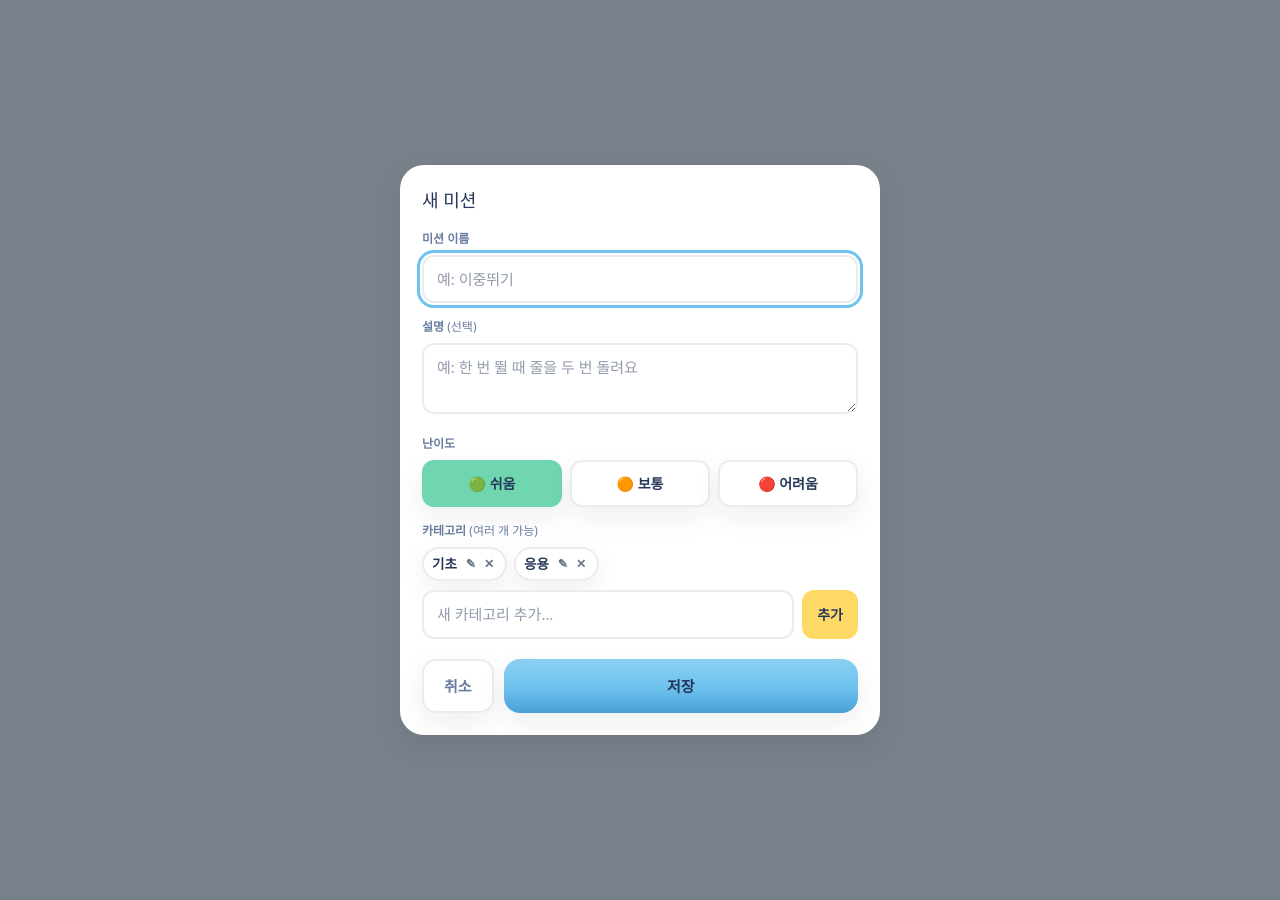
Test: MissionModal (add/edit, RHF + zodResolver) › blocks an empty-name submit, shows the error toast, and does not touch the store
Step 1. Click the button "저장" → click(681, 686), box [504,659,858,713]
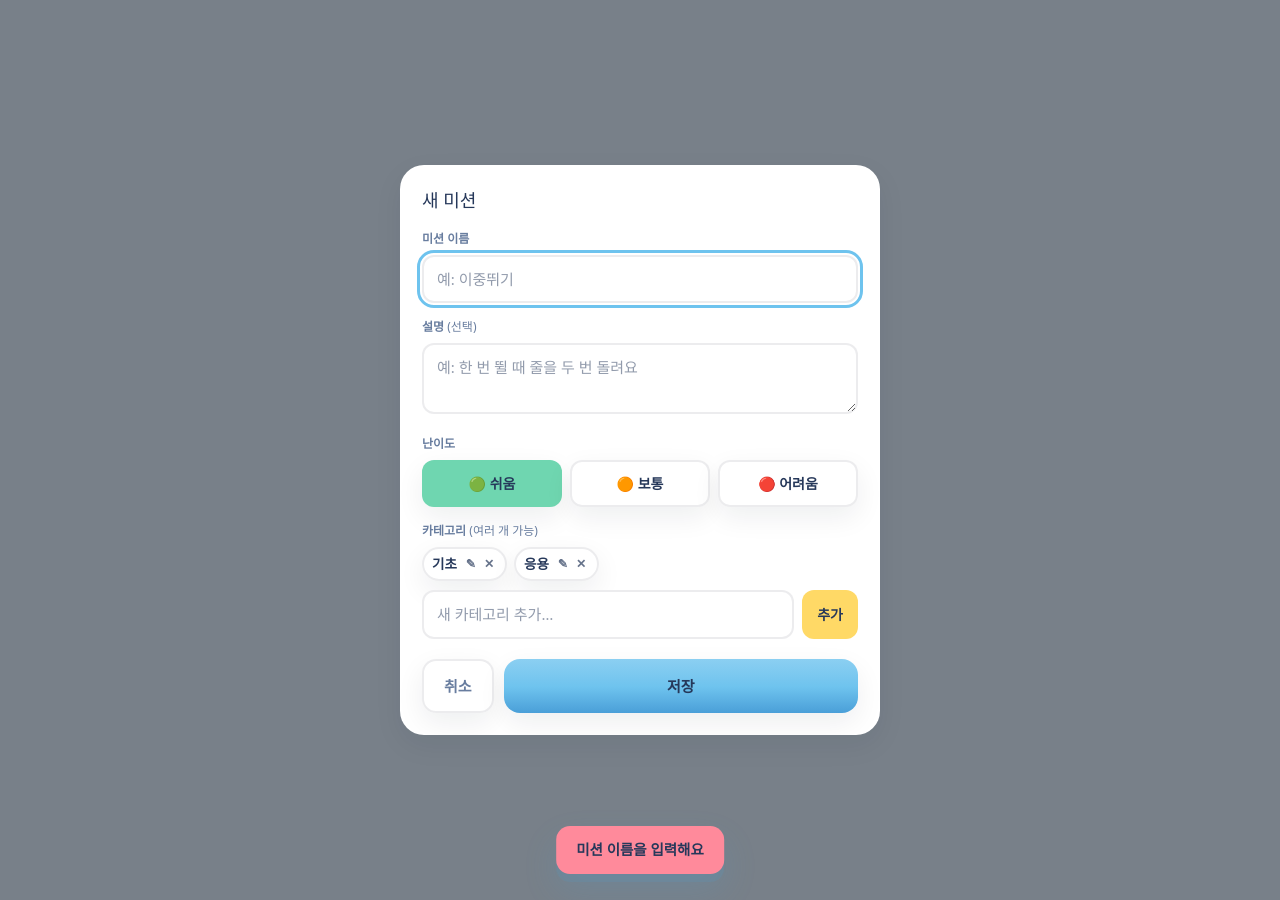
Result: the text "미션 이름을 입력해요" is shown at [556,826,724,874]
